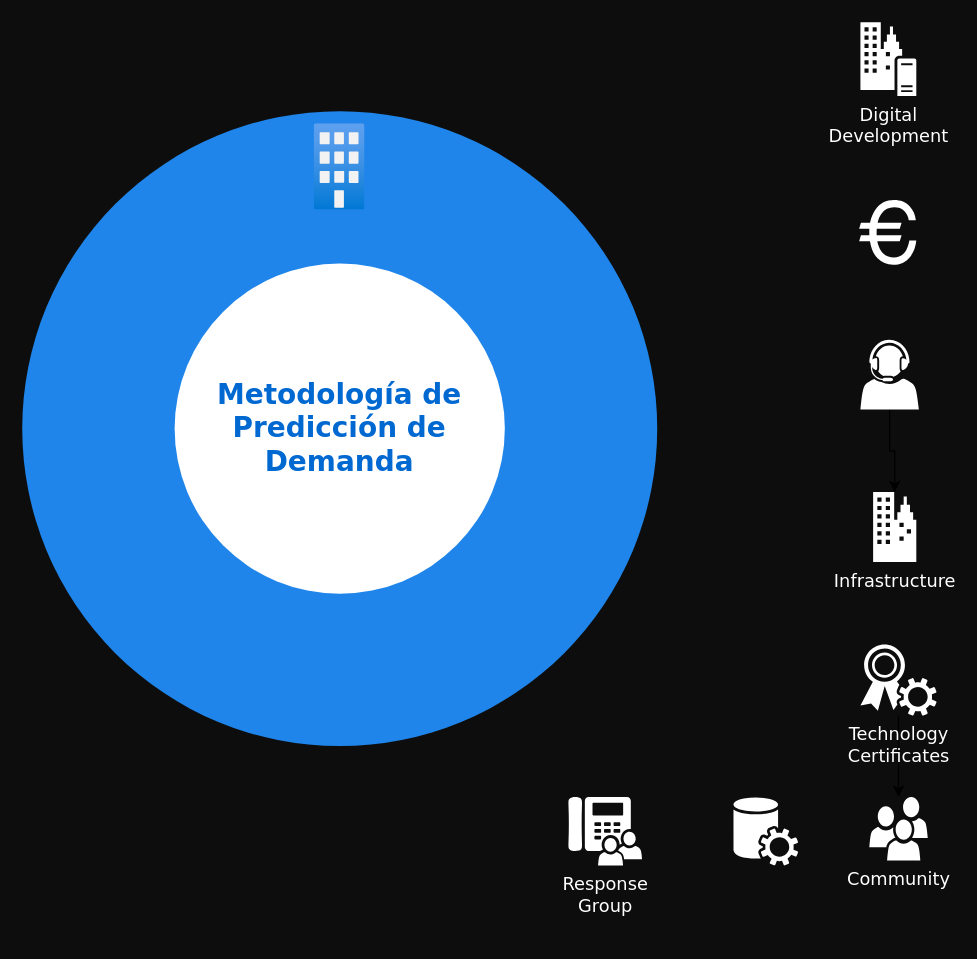
The diagram is 977 pixels wide and 959 high, and some of its shapes have lost their labels. Each missing label, with the centre of its shape:
Central Management Service: the point at 765,830
Customer Service: the point at 889,374
Finance: the point at 887,231
